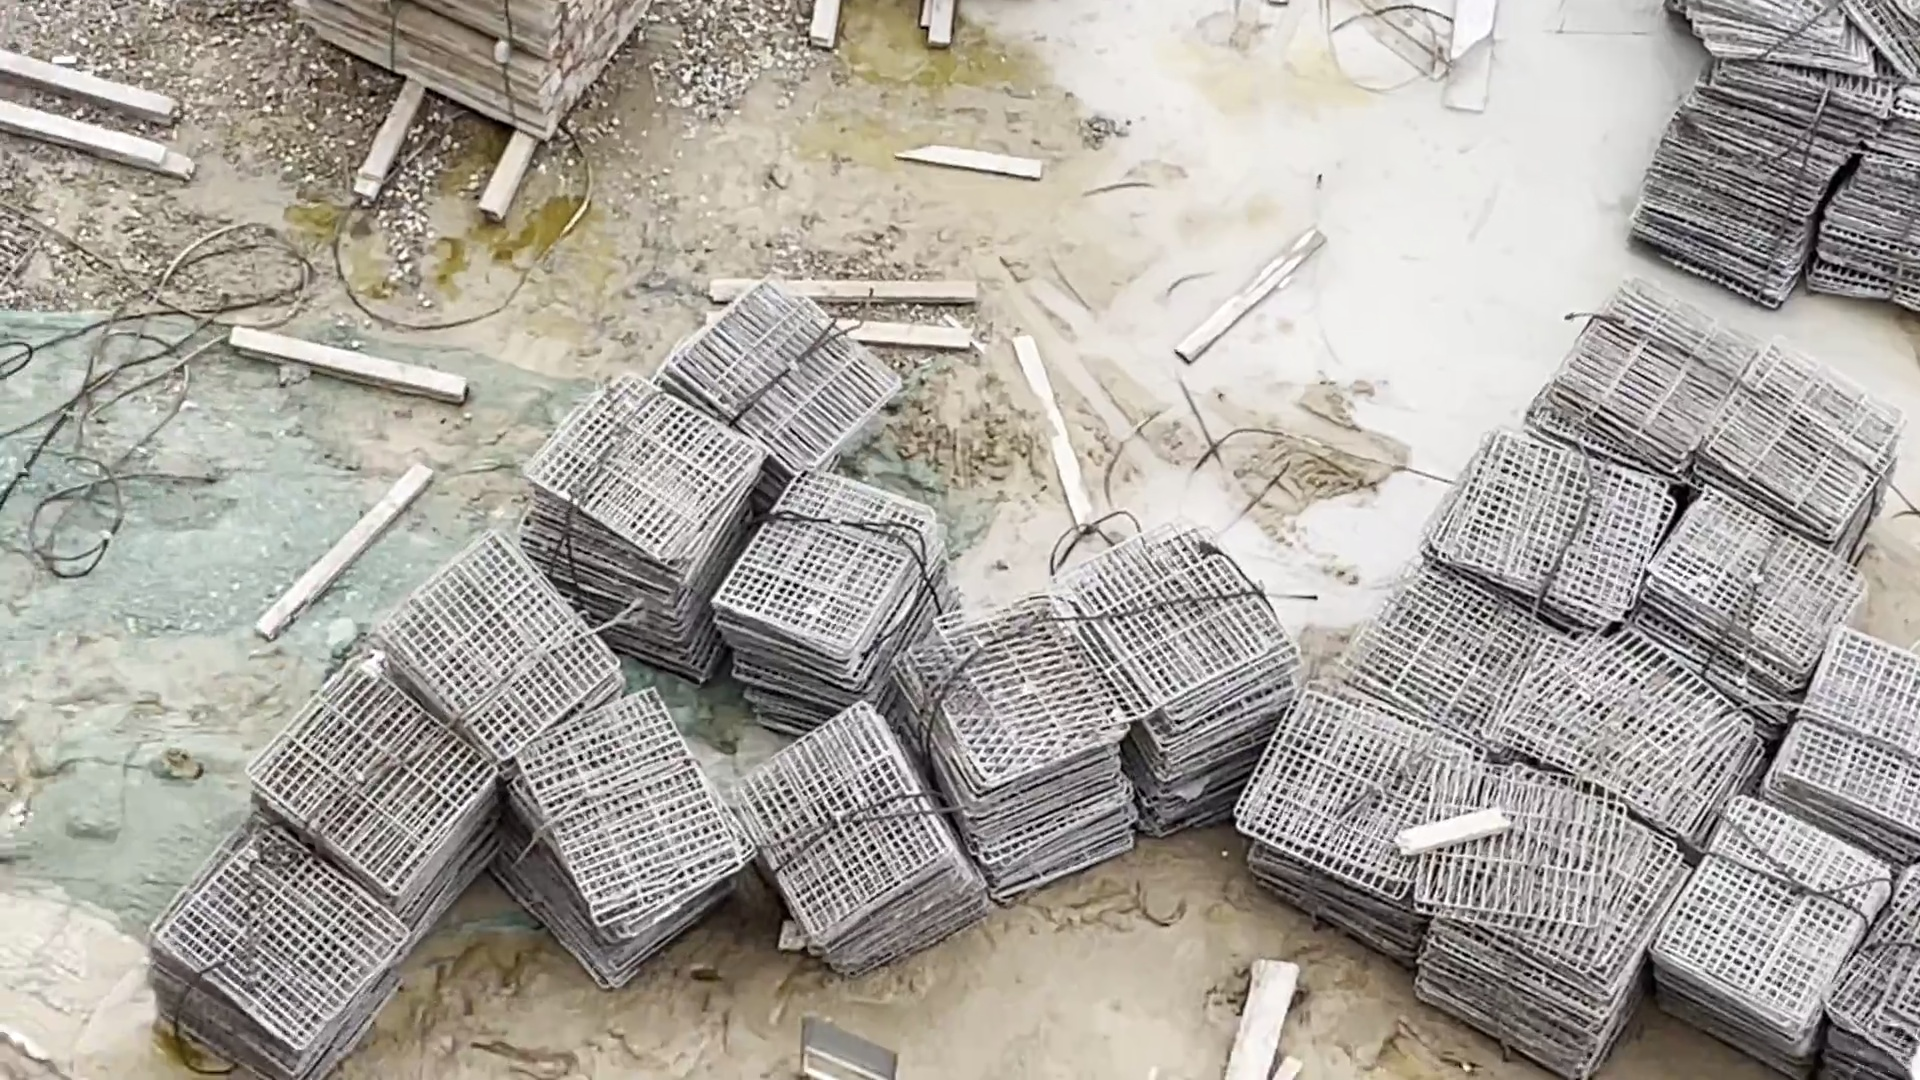wood: (298, 1, 669, 136)
